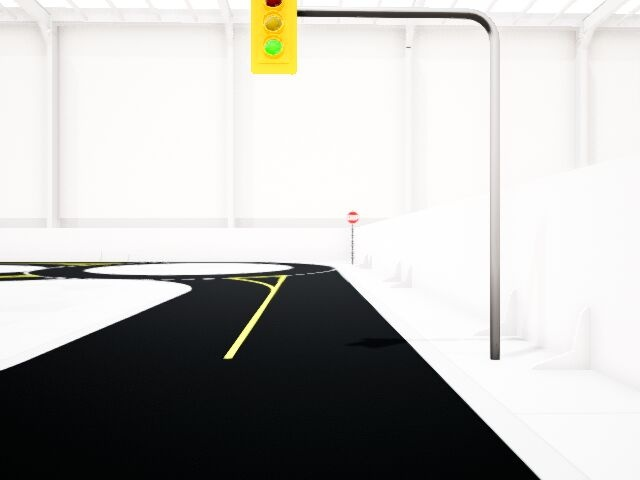green: (253, 1, 296, 73)
stopsign: (345, 210, 359, 225)
